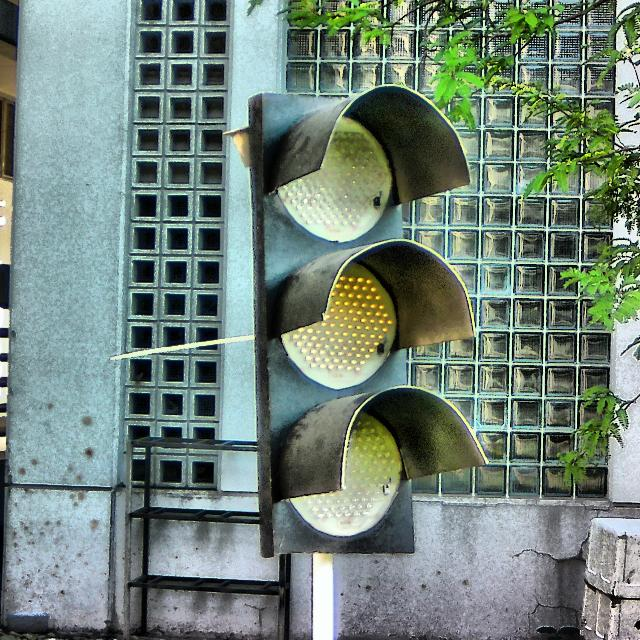yellow: (252, 96, 466, 557)
